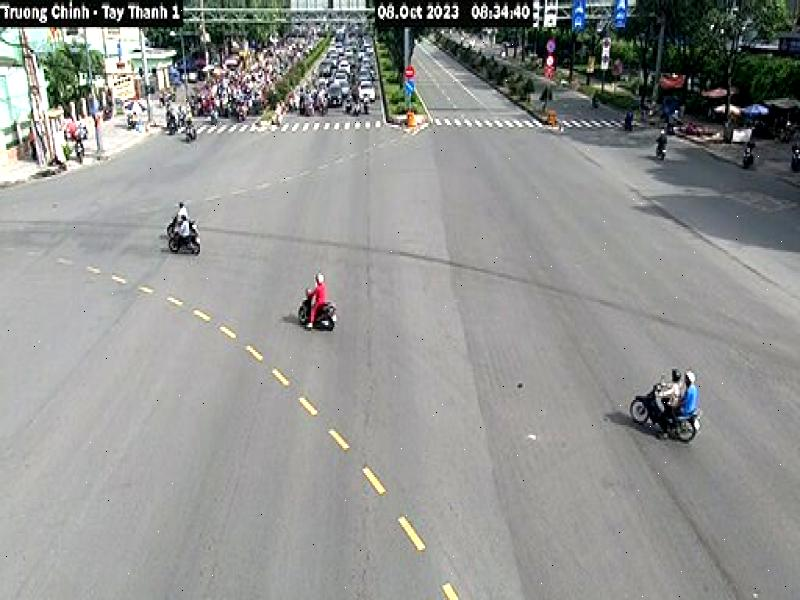motorcycle: (629, 370, 701, 441), (292, 285, 341, 342)
